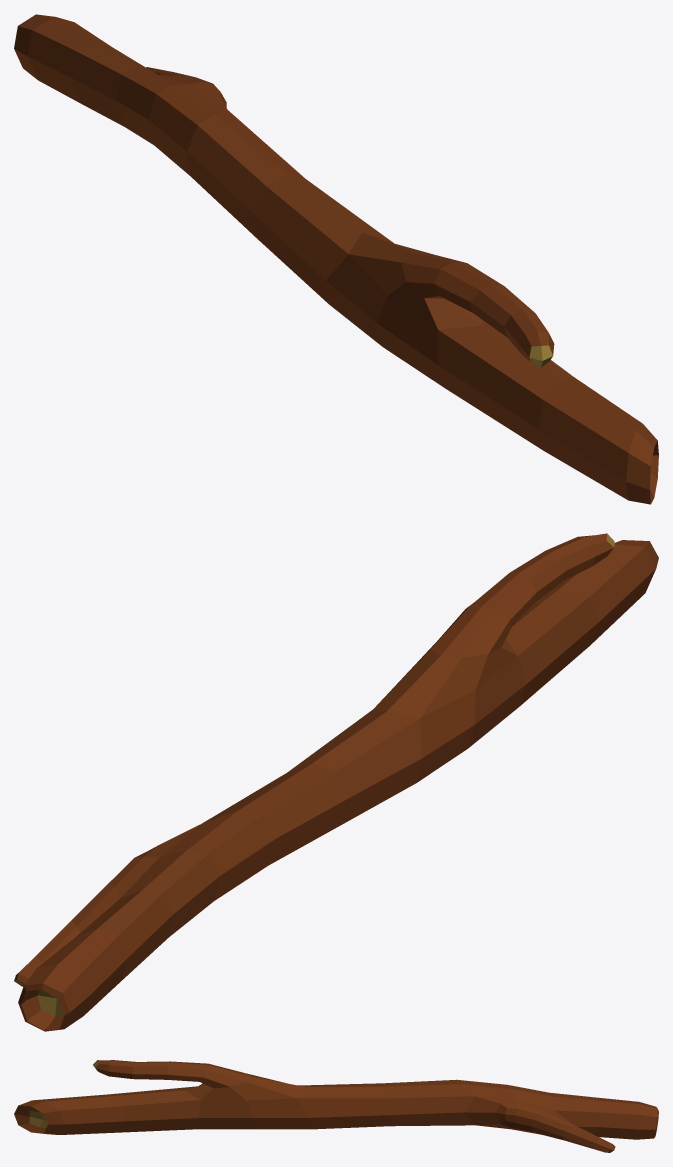
Rendered from Log_1.fbx.
The picture shows the model from 3 angles, top to bottom: view 1: azimuth 30°, elevation 25°; view 2: azimuth 150°, elevation 25°; view 3: azimuth 270°, elevation 25°; orthographic projection. The views are drawn at different scales.
Parts seen in each view (by area): view 1: Log_1; view 2: Log_1; view 3: Log_1.
Part boxes in pixels (x1,y1,x2,y2): Log_1: [14, 14, 658, 504]; Log_1: [14, 533, 658, 1031]; Log_1: [14, 1060, 658, 1152].
Size of the model in its own units: 53.01 by 54.76 by 459.
